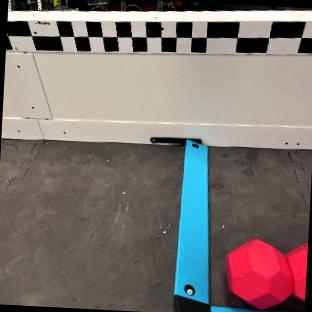Parking - Part: (174, 138, 300, 312)
V5_RED: (226, 238, 307, 312)
